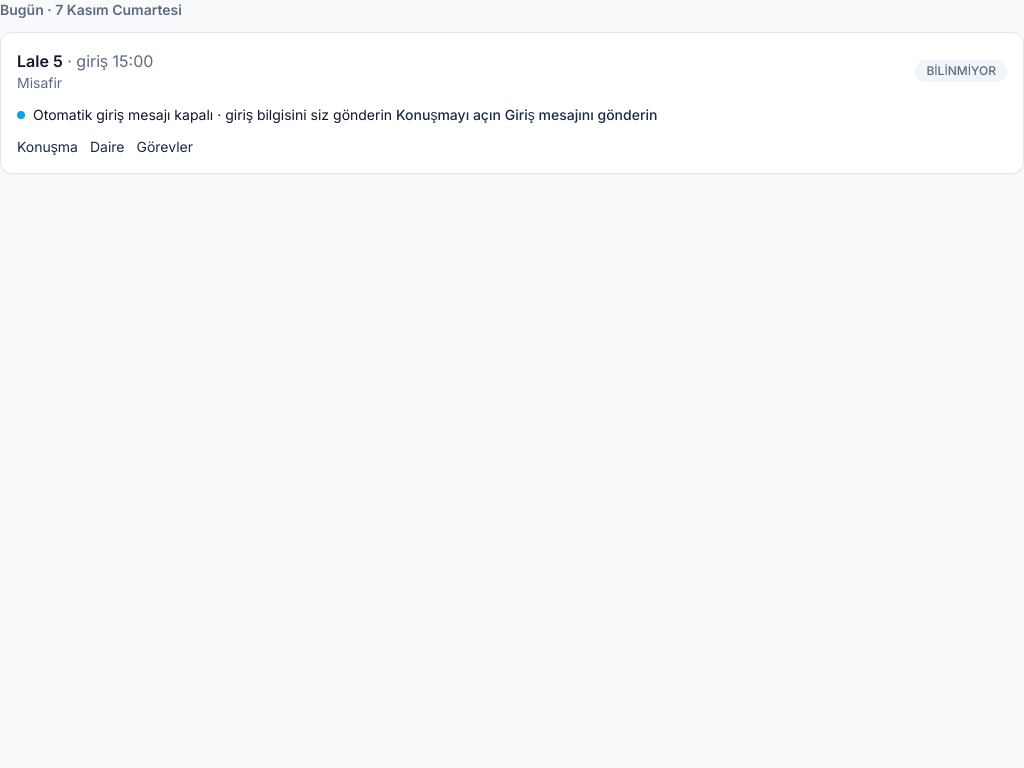
Girişler — giriş mesajını elle gönderme › 🚨 özetsiz önizleme (eski / bozuk cevap) gönderime açılmaz — hata gösterilir, Gönderin düğmesi yok
Click the button "Giriş mesajını gönderin" at (581, 115), box [505,105,657,125]
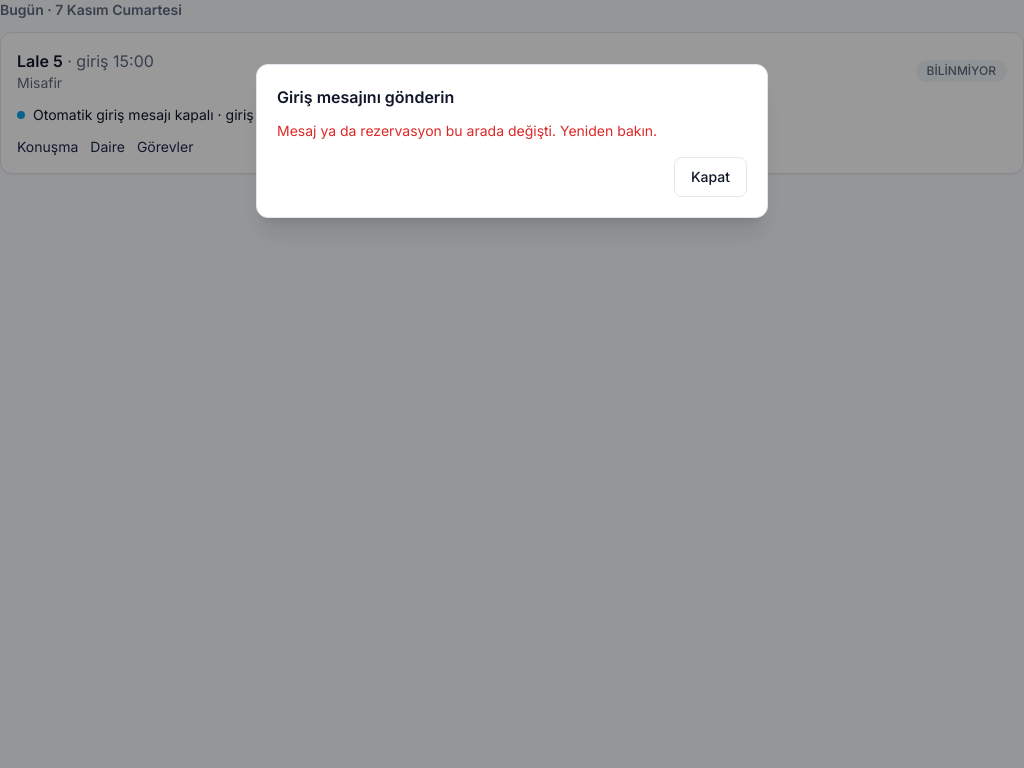
Expected: the message reads "Mesaj ya da rezervasyon bu arada değişti. Yeniden bakın.", [277,122,657,139]
